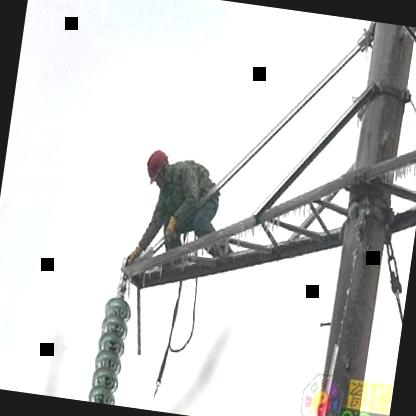helmet: (140, 146, 177, 190)
